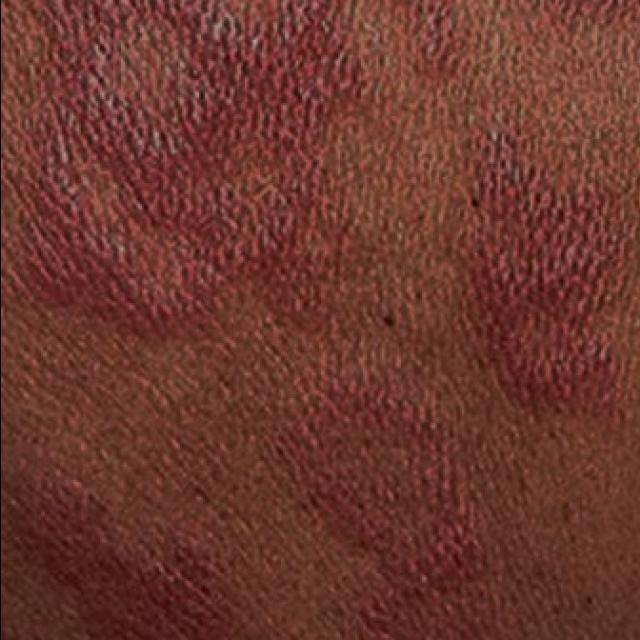Leprosy: (0, 1, 366, 347), (442, 110, 625, 444), (286, 389, 513, 640)
